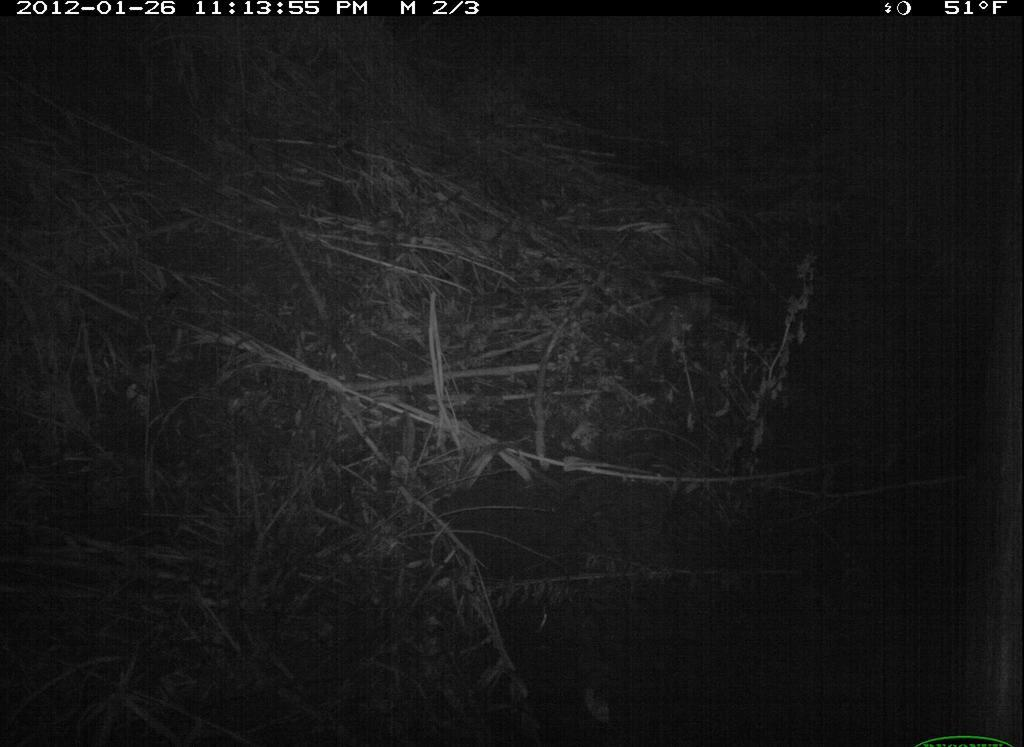opossum: (615, 277, 726, 373)
